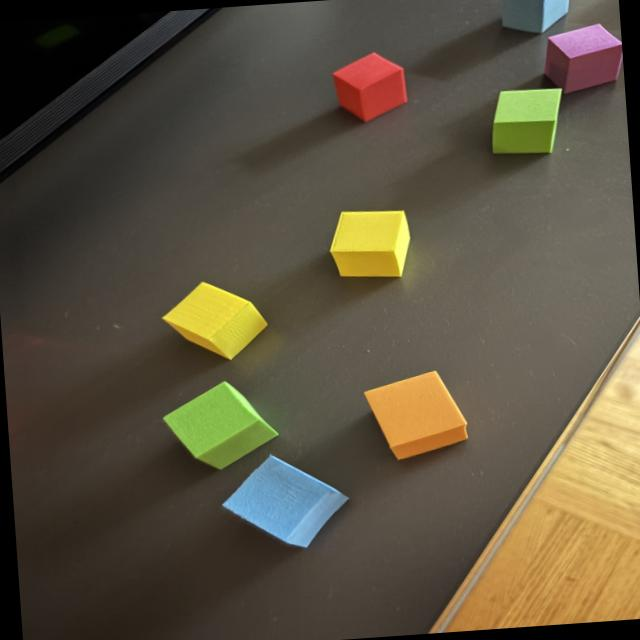bluecube: (221, 454, 347, 546)
greencube: (162, 380, 277, 468), (491, 87, 561, 152)
orangecube: (363, 370, 466, 458)
purplecube: (543, 23, 622, 93)
redcube: (332, 51, 406, 120)
yellowcube: (161, 281, 266, 358), (329, 209, 408, 275)
